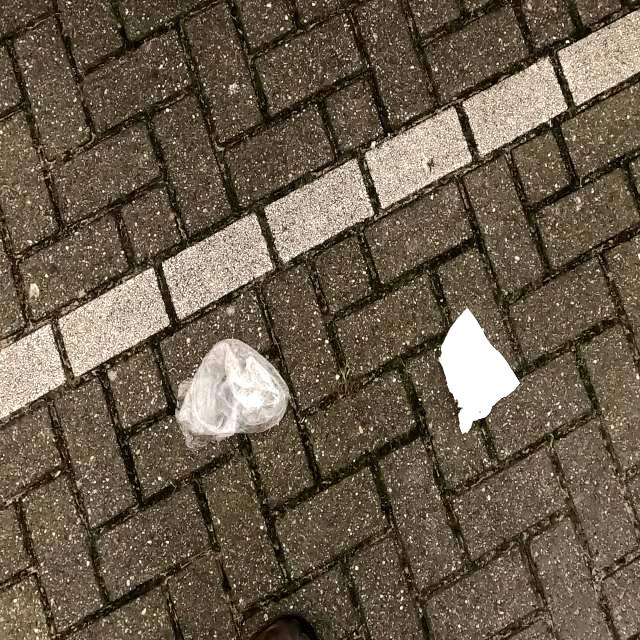Paper: (438, 304, 516, 436)
